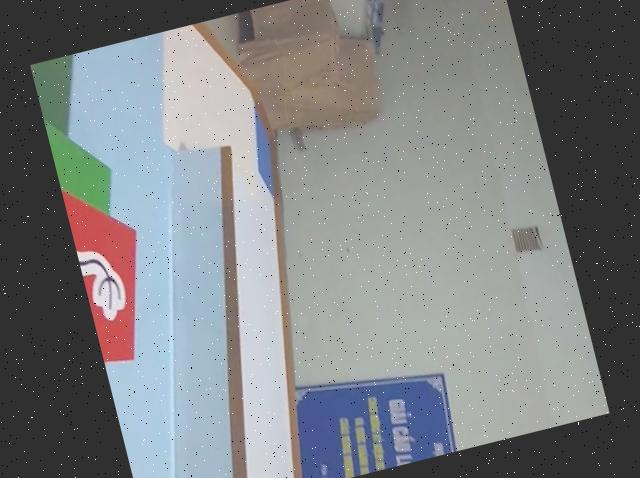R2 Real: (56, 150, 174, 371)
